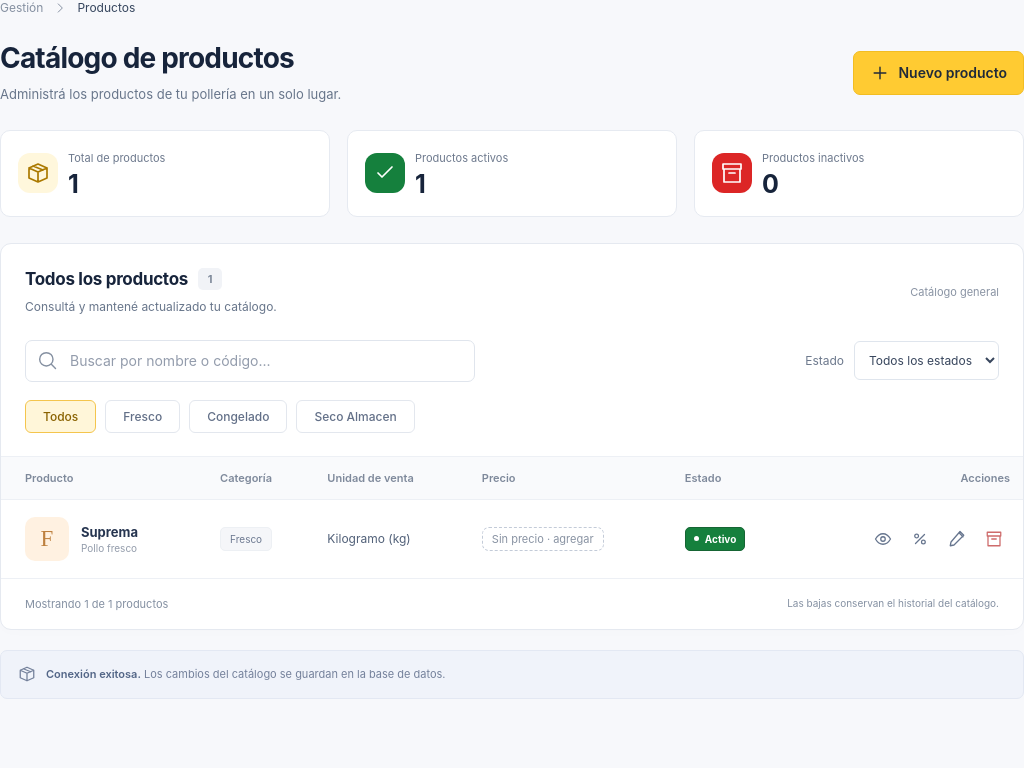
Columna de precios del catálogo › abre el modal de precios desde la fila del producto
Step 1. Click the button named "Precios de Suprema" → x=920, y=539, box [904,523,936,555]
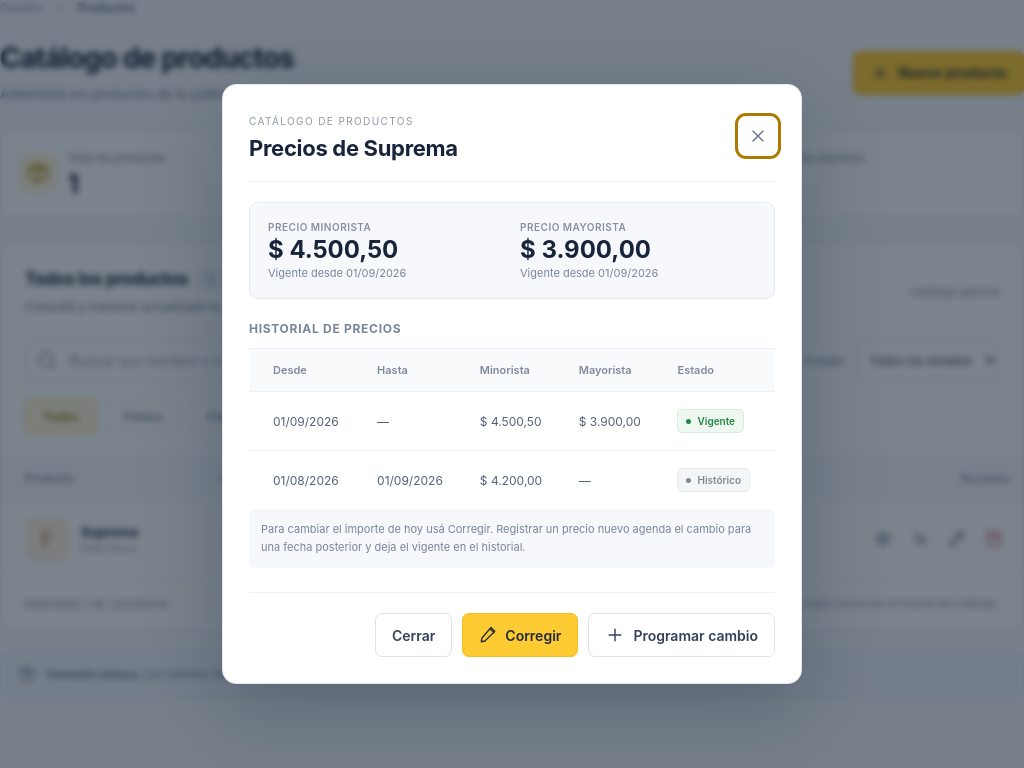
Expected: the dialog shows "4.500,50", [268,235,398,264]
